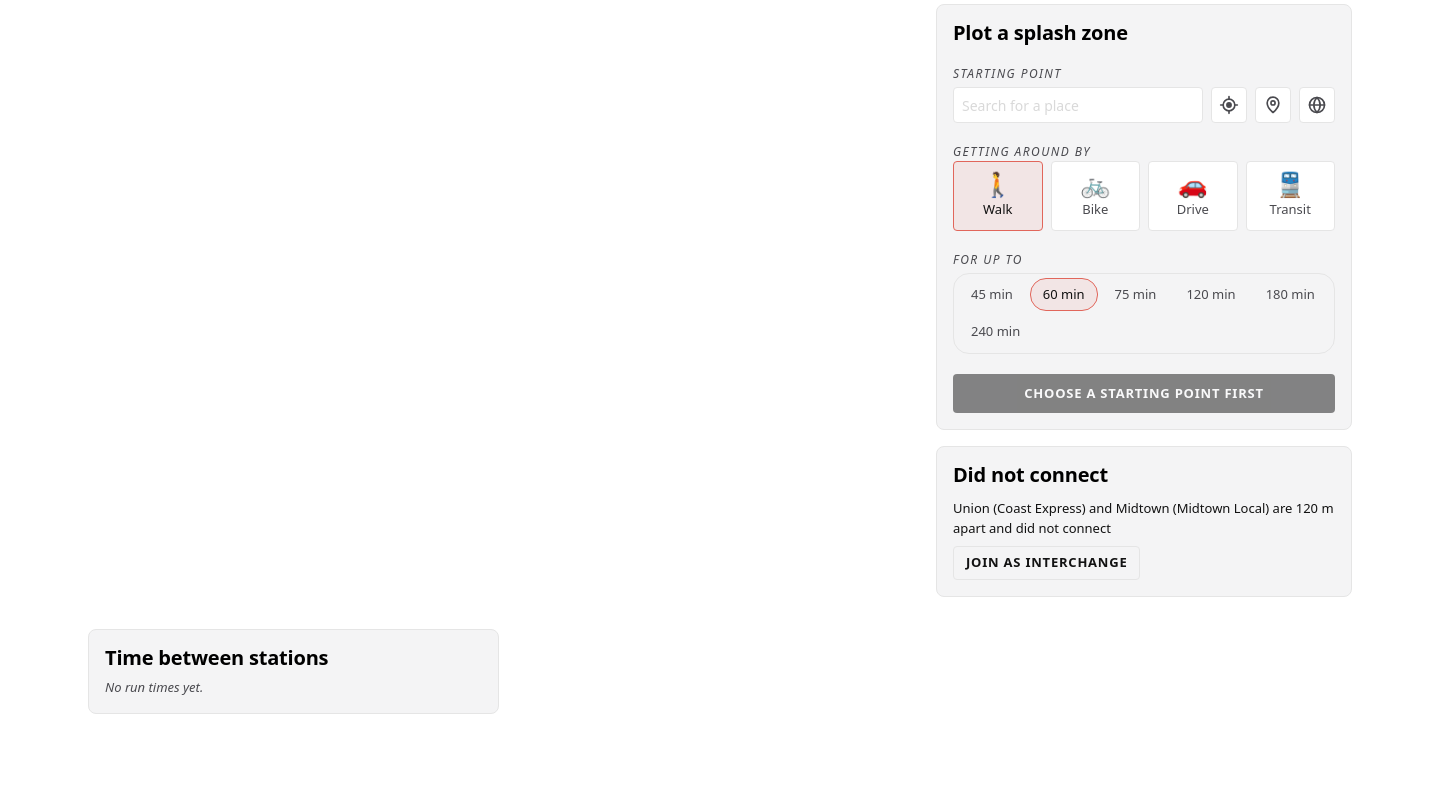
Test case: AuthoredScenarioView joining near misses into interchanges › says why the save was refused, does not recompile, and keeps the near miss
(page scrolled)
Step 1. Click the button with test id "join-interchange" → coordinates (1047, 563), box 953,546 -> 1140,580
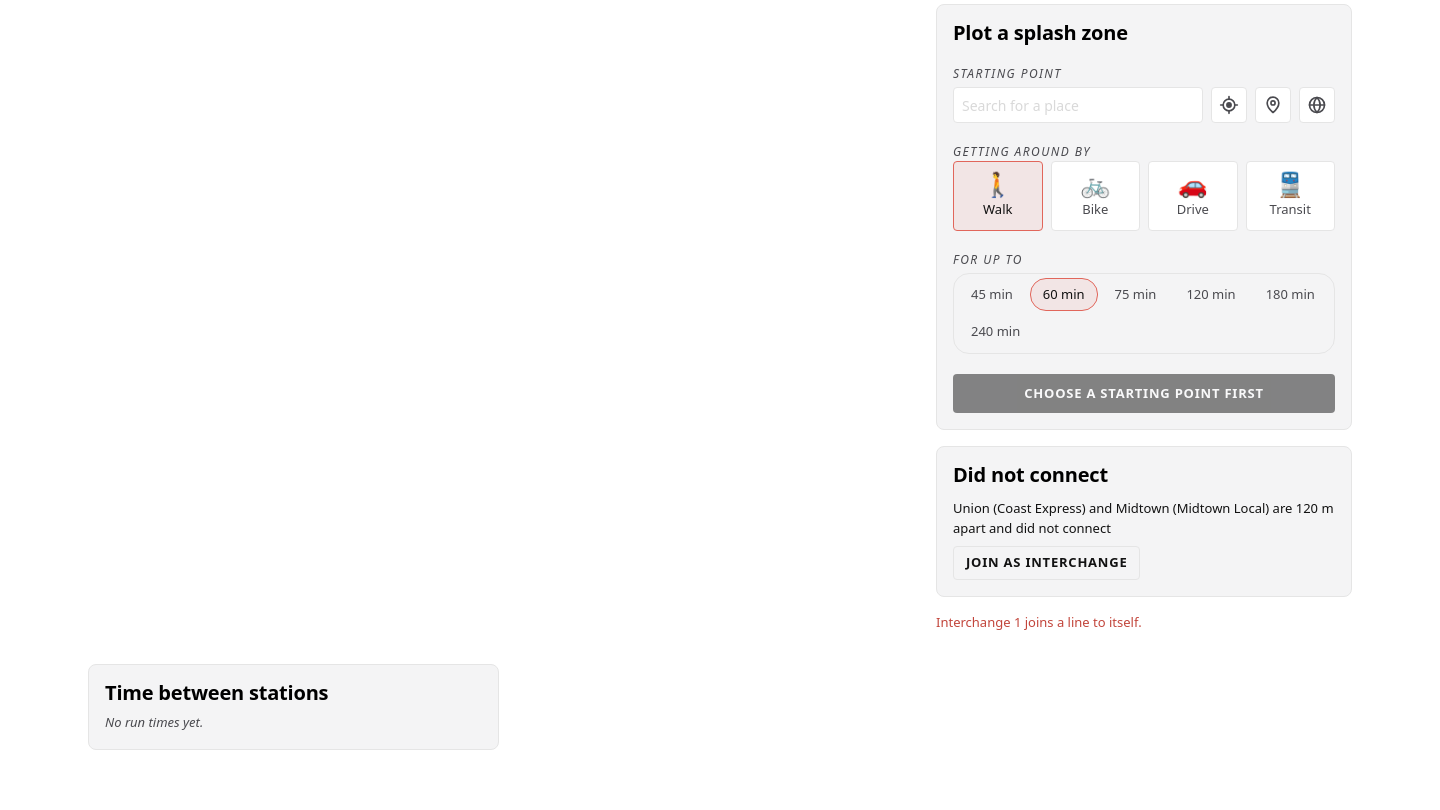
Expected: the number of list items with test id "near-miss-row" is 1, 953,499 -> 1335,580
Now the message with test id "interchange-error" reads "Interchange 1 joins a line to itself.", box 936,613 -> 1142,631
